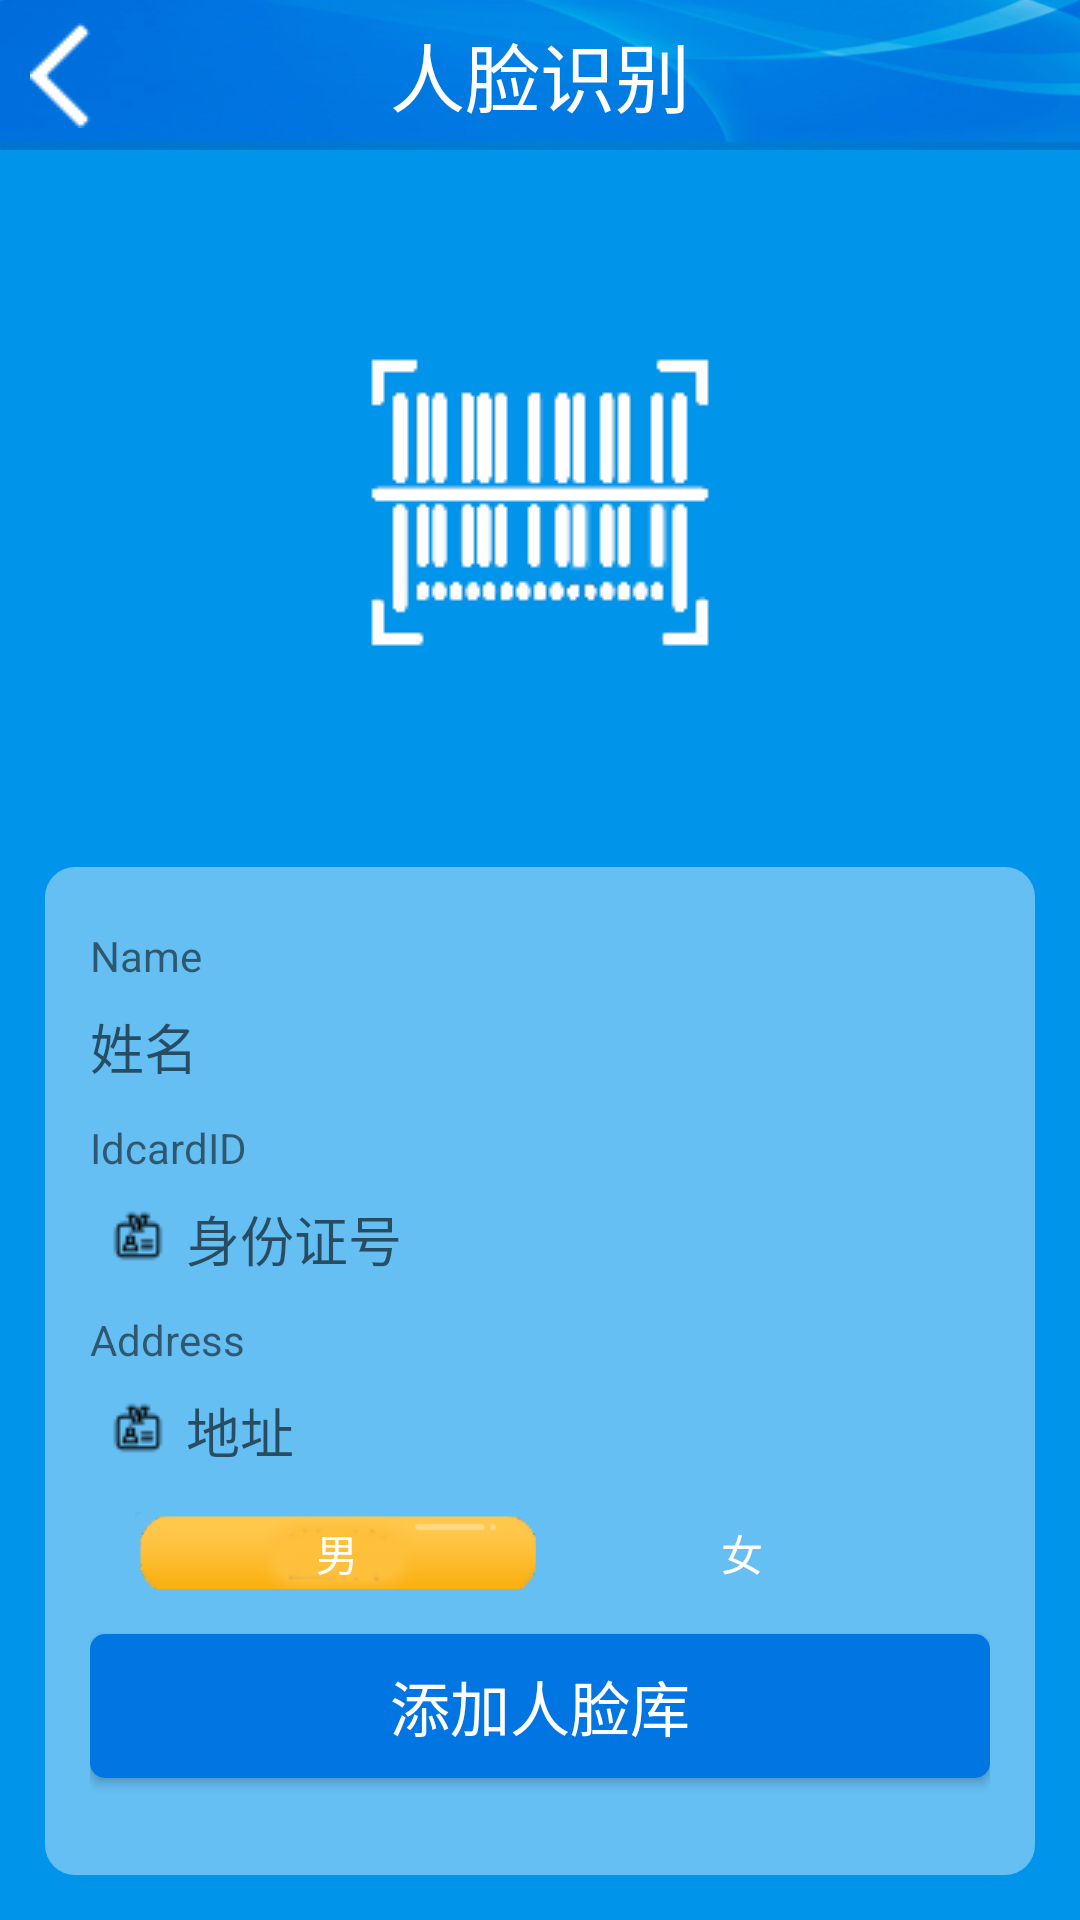

Icons on this 1080px x 1920px Android screen, each with its box as (x1, y1, x2, y2):
bar back: (30, 23, 90, 128)
